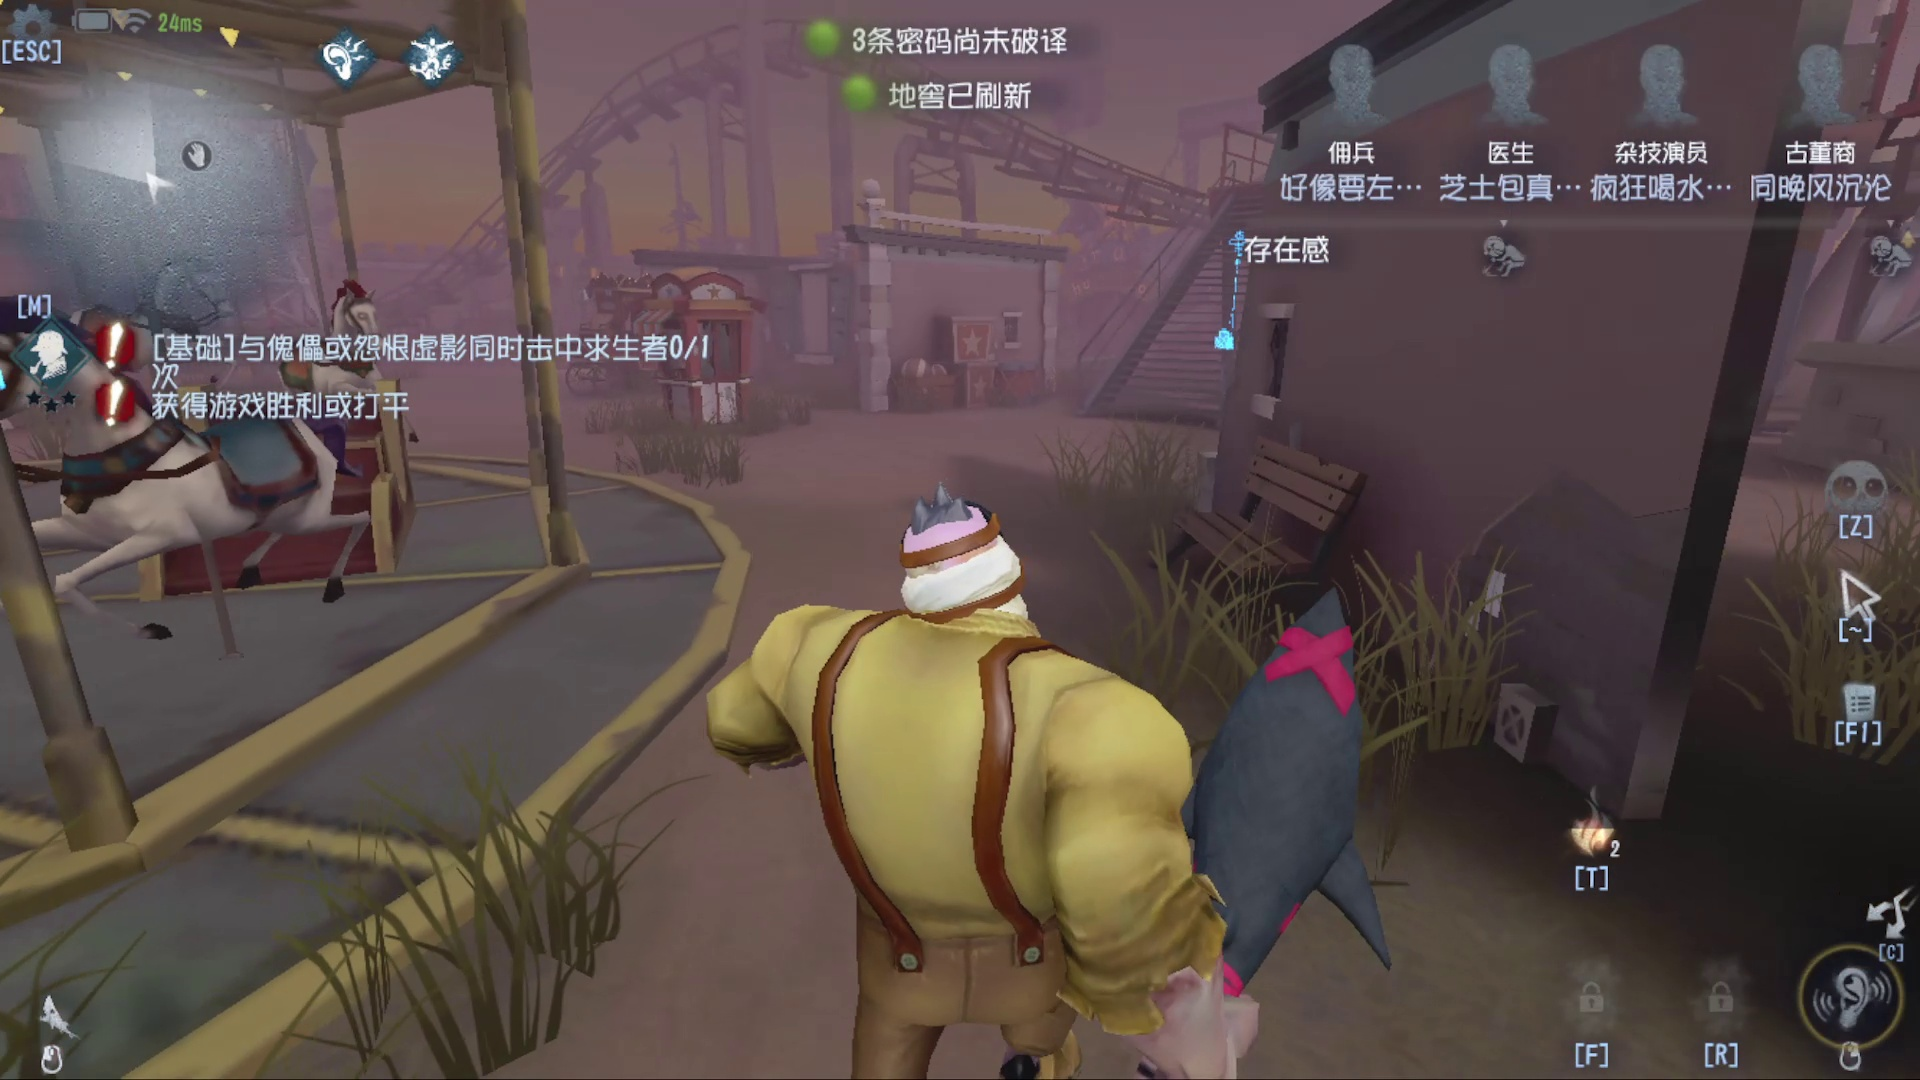密码机: (1205, 220, 1259, 355)
